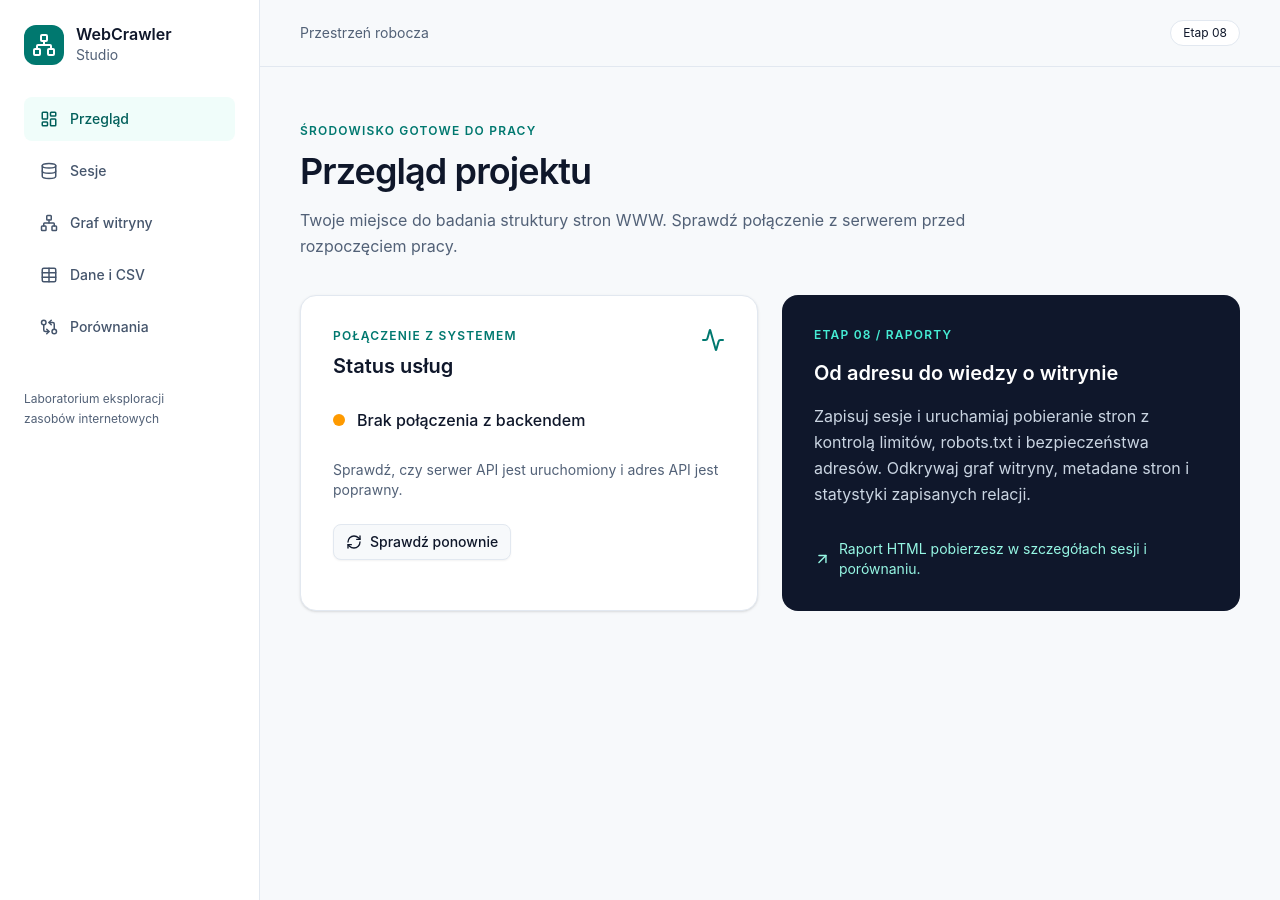
Test: bootstrap UI › reports network failure and supports retry
Expected: the text "Brak połączenia z backendem" is shown, [357, 408, 585, 432]
Click the button "Sprawdź ponownie": [422, 542] box [333, 524, 511, 560]
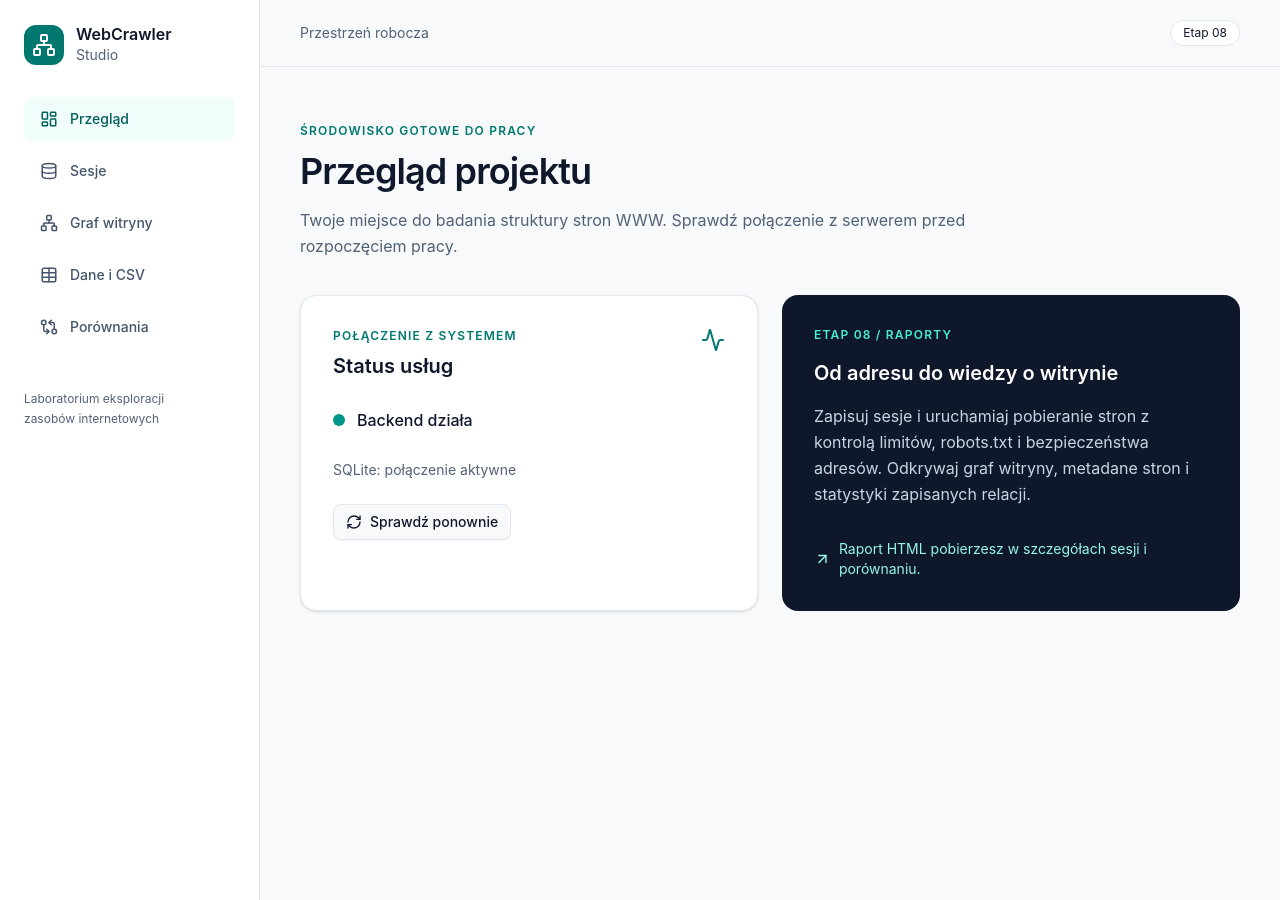
Now the text "Backend działa" is shown, box [357, 408, 473, 432]
